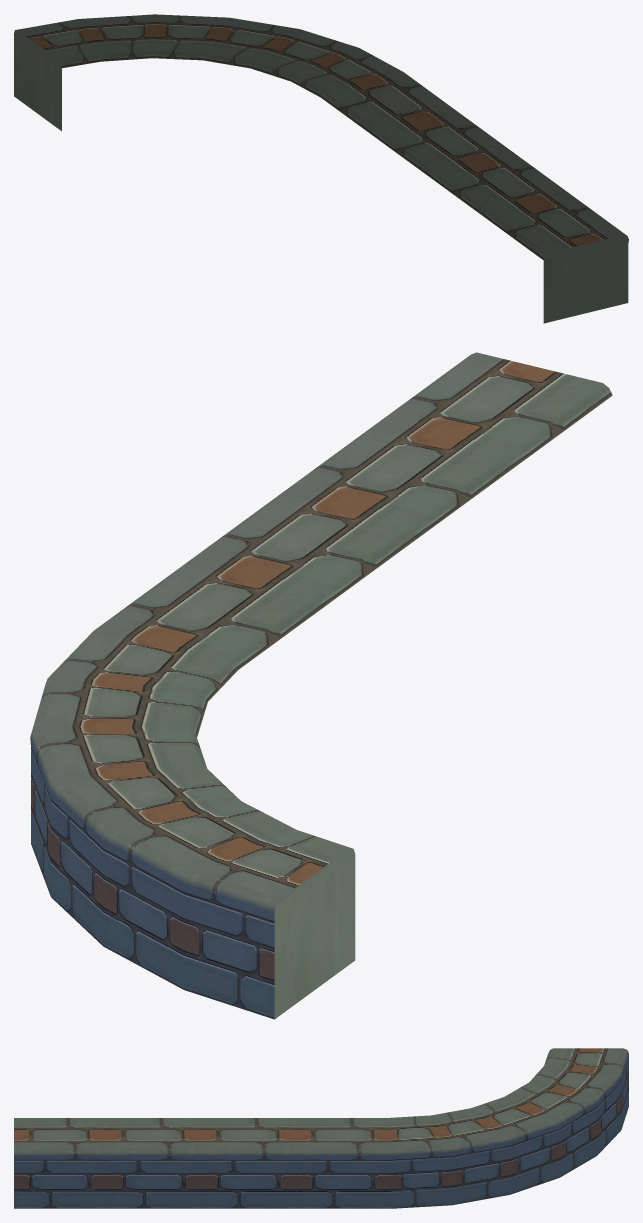
The picture shows the model from 3 angles, top to bottom: view 1: azimuth 30°, elevation 25°; view 2: azimuth 150°, elevation 25°; view 3: azimuth 270°, elevation 25°; orthographic projection. The views are drawn at different scales.
Parts seen in each view (by area): view 1: Joint_0_Object_0; view 2: Joint_0_Object_0; view 3: Joint_0_Object_0.
Part boxes in pixels (x1,y1,x2,y2): Joint_0_Object_0: (14,14,628,323); Joint_0_Object_0: (30,352,612,1019); Joint_0_Object_0: (14,1048,628,1208).
Bounding box in the file's own units: 1260 × 333 × 3190.
Materials: 1 (1 with a texture image).
